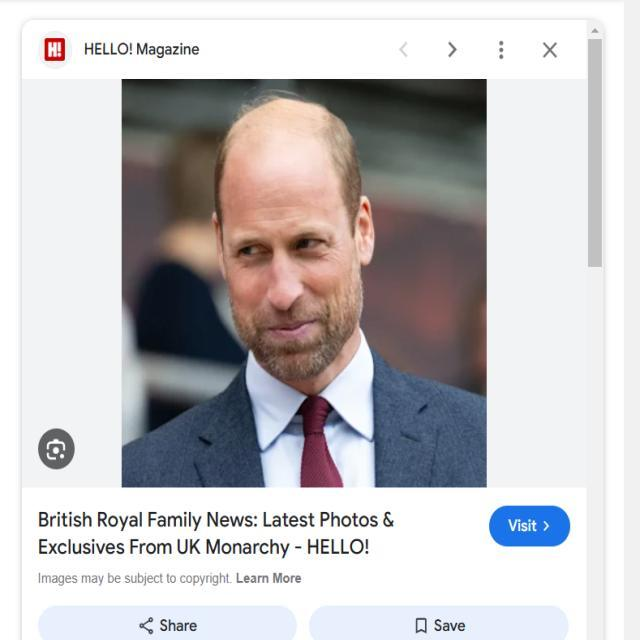face_no_mask: (214, 163, 378, 370)
